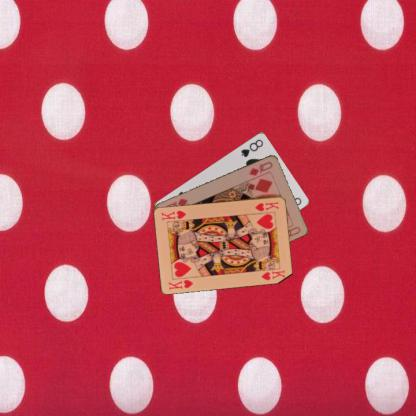8s: (238, 136, 264, 158)
Kh: (166, 276, 195, 290), (253, 199, 280, 212)
Qd: (247, 159, 274, 177)
